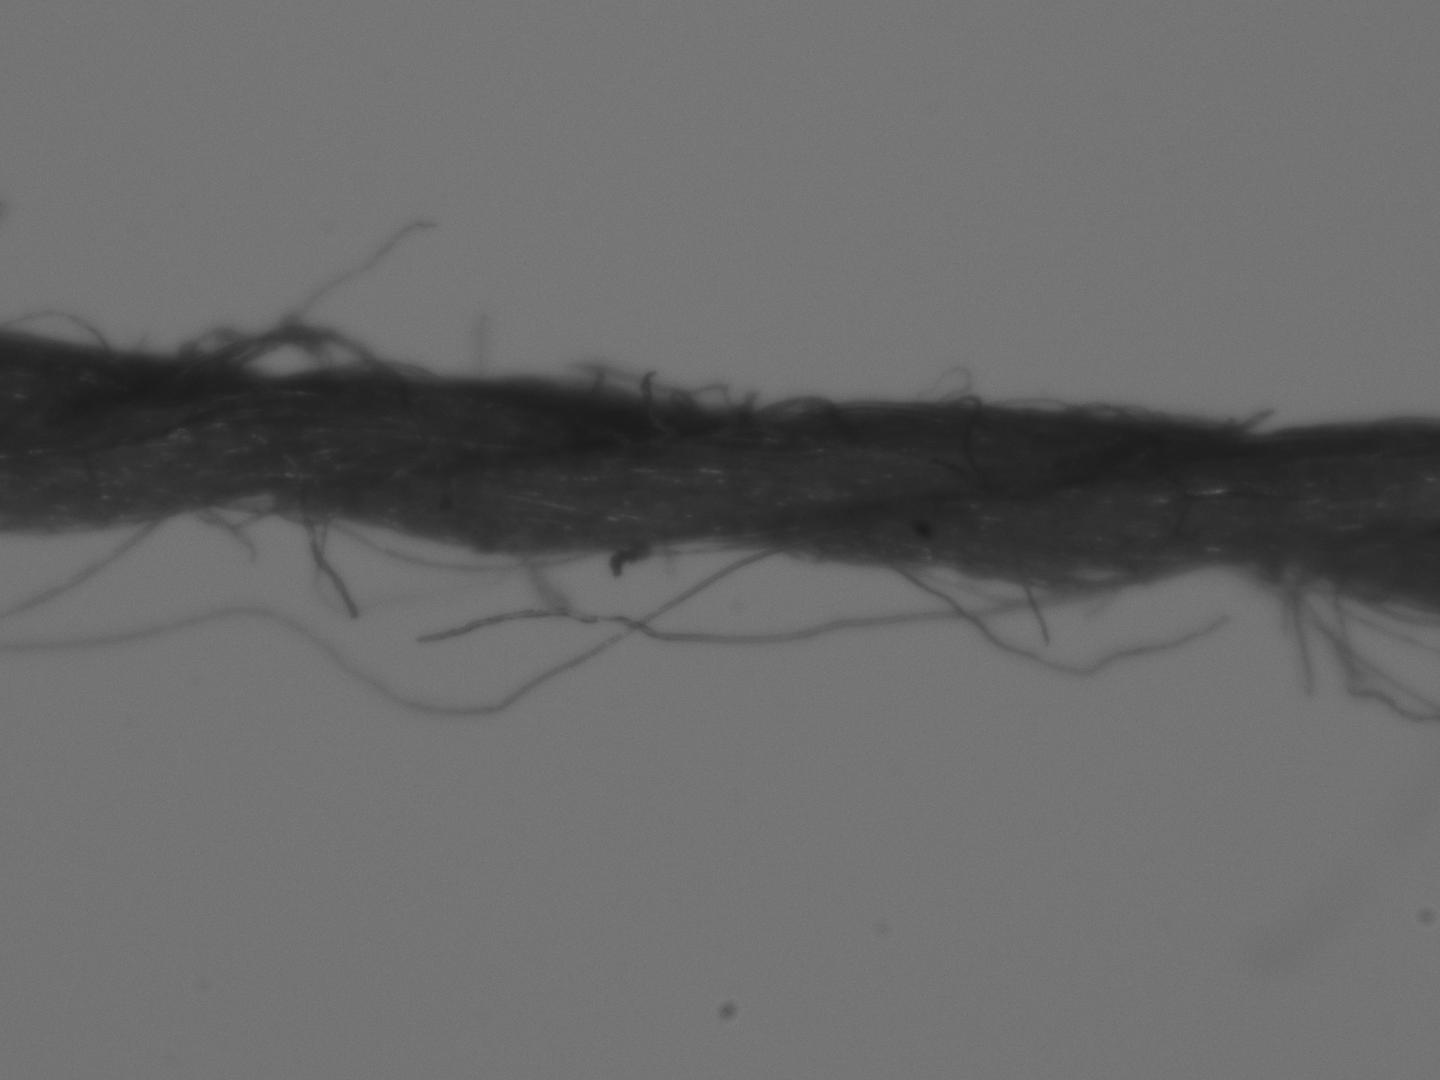loop_fiber: (185, 482, 778, 613), (1252, 566, 1438, 726), (175, 326, 437, 385), (576, 360, 754, 421), (0, 311, 115, 355), (908, 366, 985, 405), (760, 393, 831, 417)
protruding_fiber: (0, 543, 798, 717), (857, 547, 1234, 680), (422, 581, 1103, 651), (227, 220, 441, 364), (0, 509, 168, 619), (1008, 554, 1059, 649), (514, 545, 568, 601), (1290, 571, 1313, 703)
